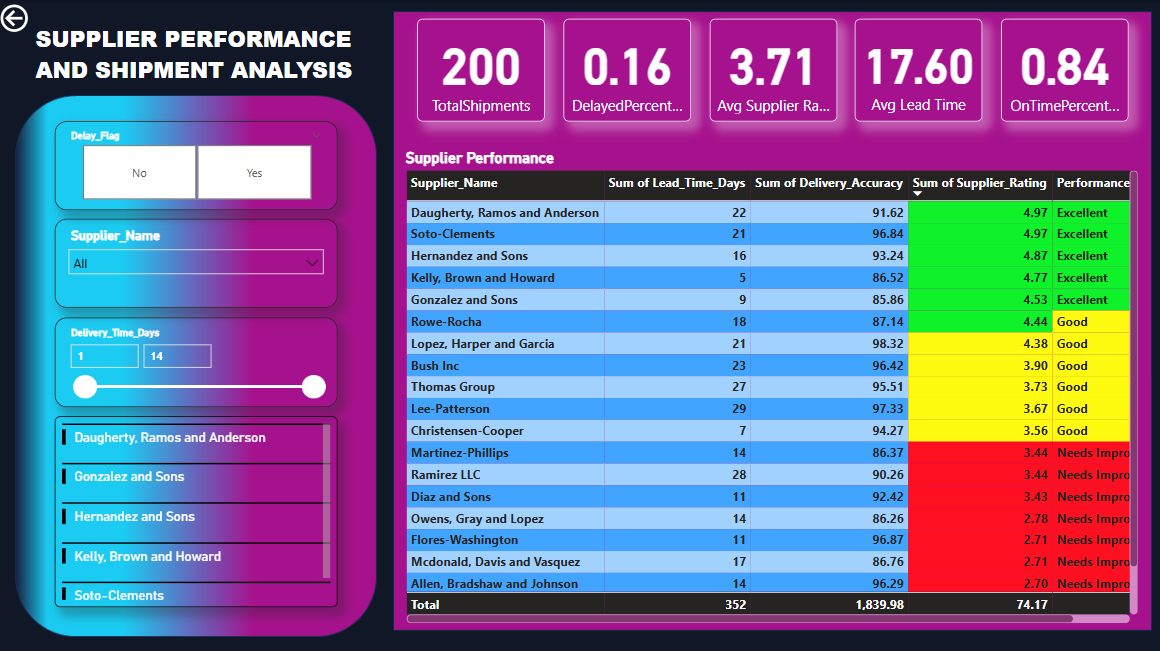

Layout of this report page (visuals, bound fields, positions):
{"tool":"powerbi","page":{"name":"Supplier Performance & Shipment Analysis","canvas":[1280,720],"ordinal":1},"visuals":[{"type":"textbox","box":[38.4,20.6,376,79.6],"z":0},{"type":"tableEx","title":"Supplier Performance","fields":{"Values":["supplier_data.Supplier_Name","Sum(supplier_data.Lead_Time_Days)","Sum(supplier_data.Delivery_Accuracy)","Sum(supplier_data.Supplier_Rating)","supplier_data. Performance Category "]},"box":[444.6,163.3,813.7,525.6],"z":1000},{"type":"card","fields":{"Values":["shipping_data.TotalShipments"]},"box":[462.4,20.6,140,112.5],"z":2000},{"type":"card","fields":{"Values":["shipping_data.DelayedPercentage"]},"box":[622.6,20.6,140,112.5],"z":3000},{"type":"card","fields":{"Values":["supplier_data.Avg Supplier Rating"]},"box":[782.8,20.6,140,112.5],"z":4000},{"type":"card","fields":{"Values":["supplier_data.Avg Lead Time"]},"box":[943.1,20.6,140,112.5],"z":5000},{"type":"card","fields":{"Values":["shipping_data.OnTimePercentage"]},"box":[1103.3,20.6,140,112.5],"z":6000},{"type":"slicer","fields":{"Values":["shipping_data.Delay_Flag"]},"box":[64.5,133.1,310.1,97.4],"z":7000},{"type":"slicer","fields":{"Values":["shipping_data.Delivery_Time_Days"]},"box":[64.5,348.1,310.1,98.8],"z":8000},{"type":"actionButton","box":[0,0,100,40],"z":9000},{"type":"multiRowCard","fields":{"Values":["supplier_data.Supplier_Name"]},"box":[64.5,456.9,310.1,209.9],"z":10000},{"type":"slicer","fields":{"Values":["supplier_data.Supplier_Name"]},"box":[64.5,240.6,310.1,97.4],"z":11000}]}

Visuals, with their boxes in screenshot pixels (x1, y1, x2, y2), scaled from the page's 1280x720 canvas onto the 1160x651 screenshot:
textbox: [35, 19, 376, 91]
"Supplier Performance" tableEx: [403, 148, 1140, 623]
card - shipping_data.TotalShipments: [419, 19, 546, 120]
card - shipping_data.DelayedPercentage: [564, 19, 691, 120]
card - supplier_data.Avg Supplier Rating: [709, 19, 836, 120]
card - supplier_data.Avg Lead Time: [855, 19, 982, 120]
card - shipping_data.OnTimePercentage: [1000, 19, 1127, 120]
slicer - shipping_data.Delay_Flag: [58, 120, 339, 208]
slicer - shipping_data.Delivery_Time_Days: [58, 315, 339, 404]
actionButton: [0, 0, 91, 36]
multiRowCard - supplier_data.Supplier_Name: [58, 413, 339, 603]
slicer - supplier_data.Supplier_Name: [58, 218, 339, 306]
